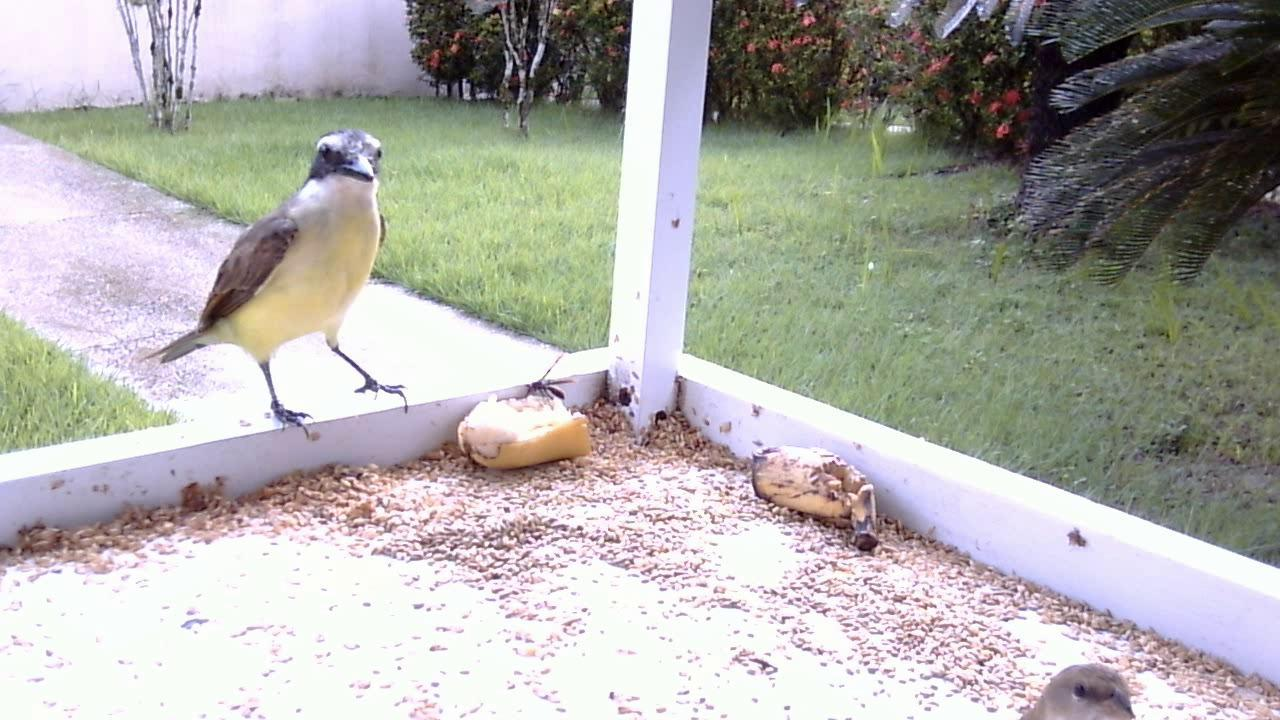bem_te_vi: (140, 125, 411, 448)
canario_do_amazonas: (1017, 658, 1144, 720)
